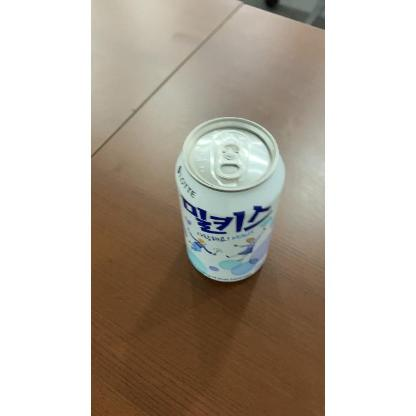Can: (172, 116, 286, 284)
